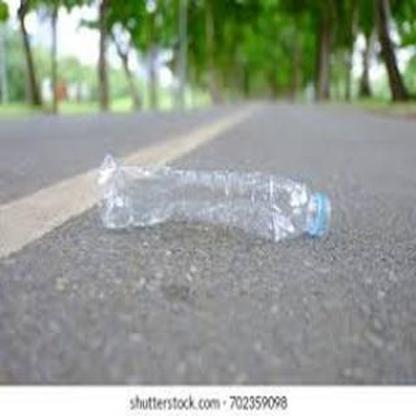plastic bottle: (93, 162, 331, 243)
